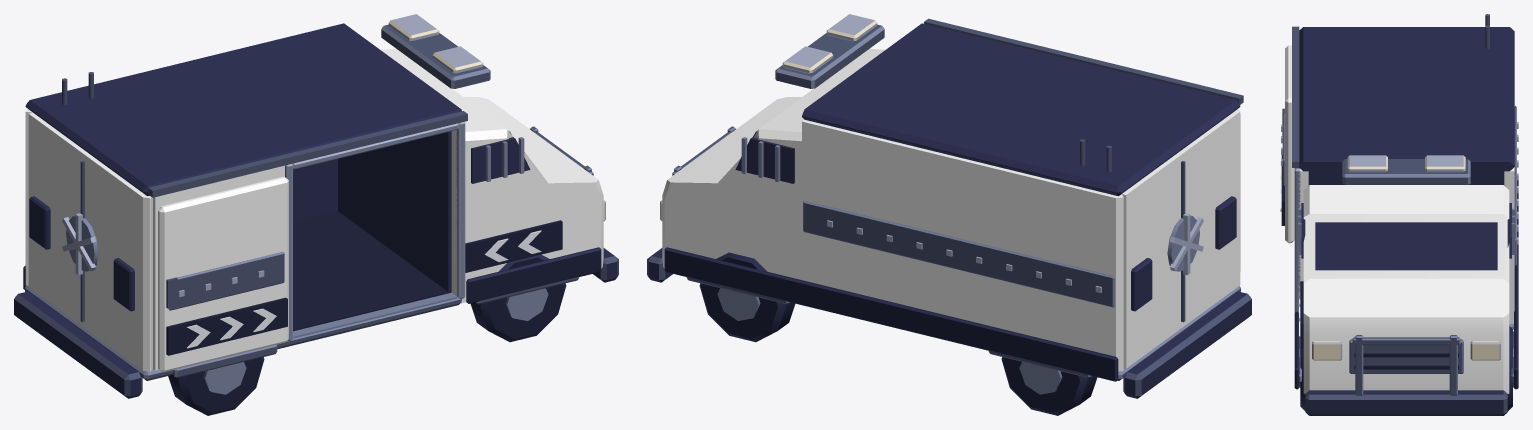
File: VanSecurity.fbx
3 views of the same model, side by side, from view 1: azimuth 30°, elevation 25°; view 2: azimuth 150°, elevation 25°; view 3: azimuth 270°, elevation 25° (orthographic). The views are drawn at different scales.
Visible parts, largest first — view 1: VanSecurity, VanSecurity_Paint; view 2: VanSecurity, VanSecurity_Paint; view 3: VanSecurity, VanSecurity_Paint.
Part boxes in pixels (x1,y1,x2,y2): VanSecurity: [14, 14, 618, 415]; VanSecurity_Paint: [25, 48, 603, 372]; VanSecurity: [647, 14, 1251, 415]; VanSecurity_Paint: [662, 48, 1240, 371]; VanSecurity: [1280, 14, 1518, 415]; VanSecurity_Paint: [1285, 45, 1514, 393].
Size of the model in its own units: 14.9 by 7.79 by 7.06.
Materials: 1 (1 with a texture image).
